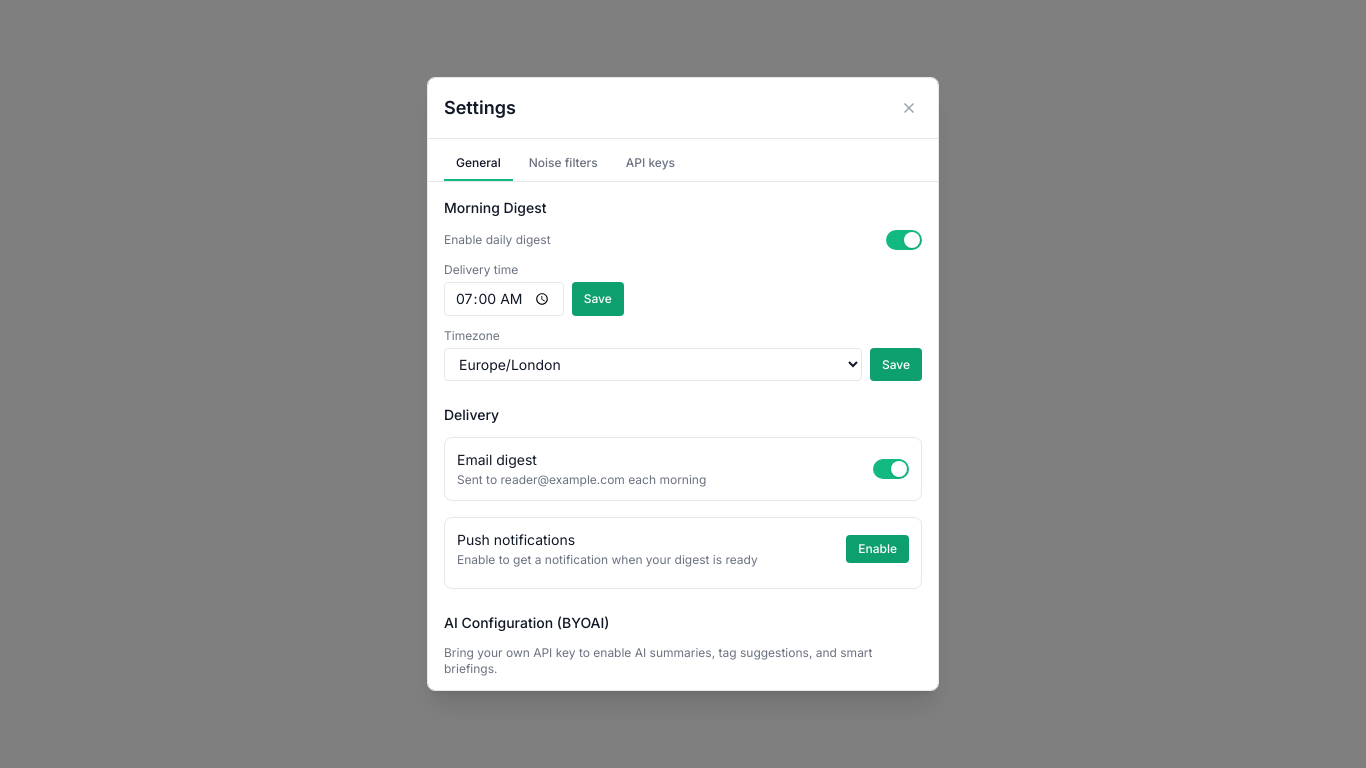
Test: SettingsPage › shows subscription errors when push subscription fails
Check: the text "Enable to get a notification when your digest is ready" is shown, box left=457, top=552, right=758, bottom=568
Click the button "Enable" at (878, 550), box left=846, top=536, right=909, bottom=564
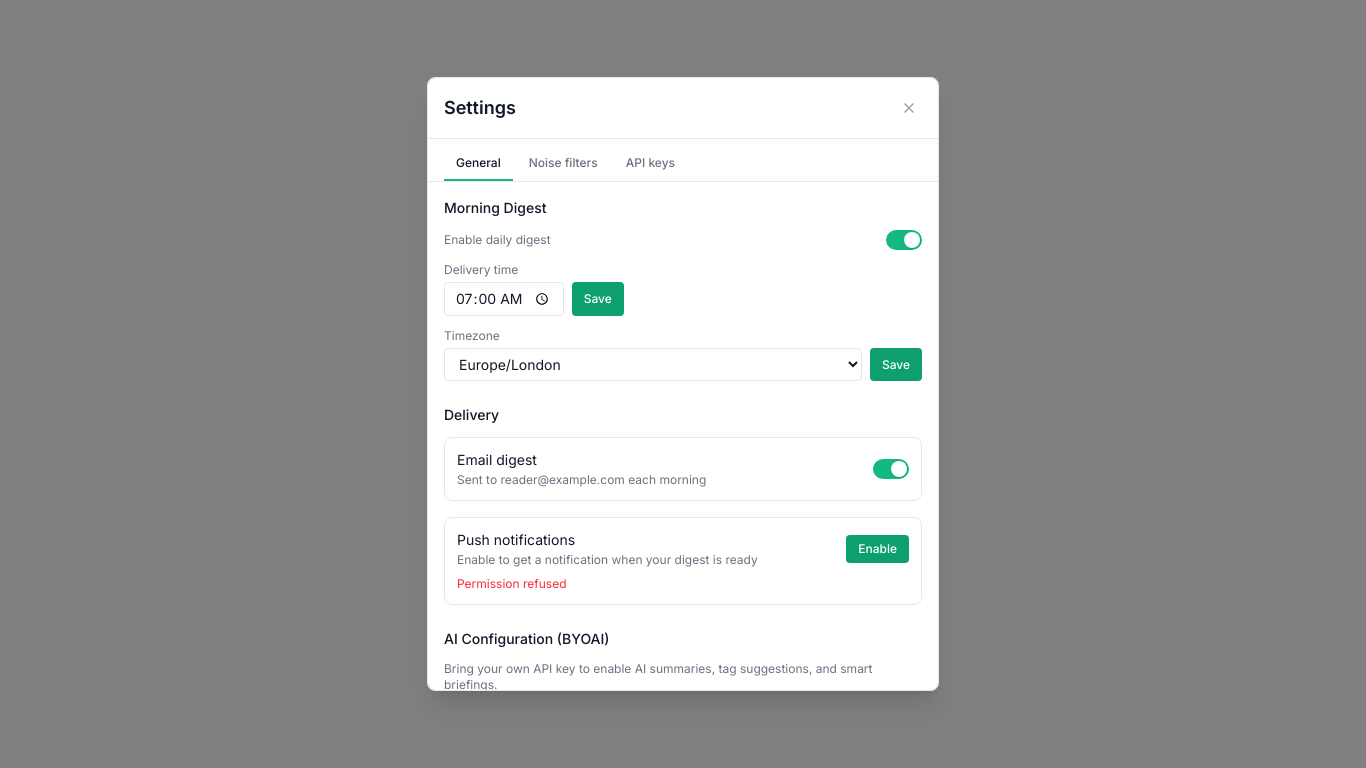
Check: the text "Permission refused" is shown, box left=457, top=576, right=566, bottom=592
